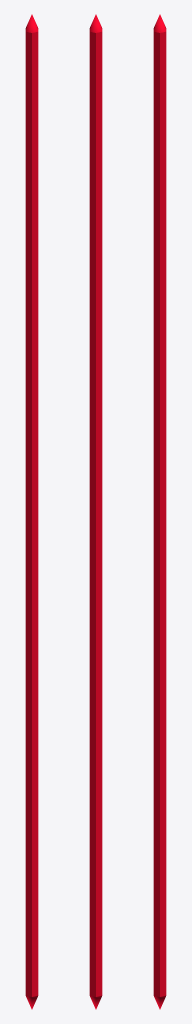
File: SM_Prop_Laser_Beam_01.fbx
3 views of the same model, side by side, from view 1: azimuth 90°, elevation 25°; view 2: azimuth 210°, elevation 25°; view 3: azimuth 270°, elevation 25° (orthographic).
Visible parts, largest first — view 1: SM_Prop_Laser_Beam_01; view 2: SM_Prop_Laser_Beam_01; view 3: SM_Prop_Laser_Beam_01.
Boxes of the visible parts, x1,y1,x2,y2 form: SM_Prop_Laser_Beam_01: (25, 14, 38, 1009); SM_Prop_Laser_Beam_01: (89, 14, 102, 1009); SM_Prop_Laser_Beam_01: (153, 14, 166, 1009).
Bounding box in the file's own units: 3.94 × 292 × 3.41.
